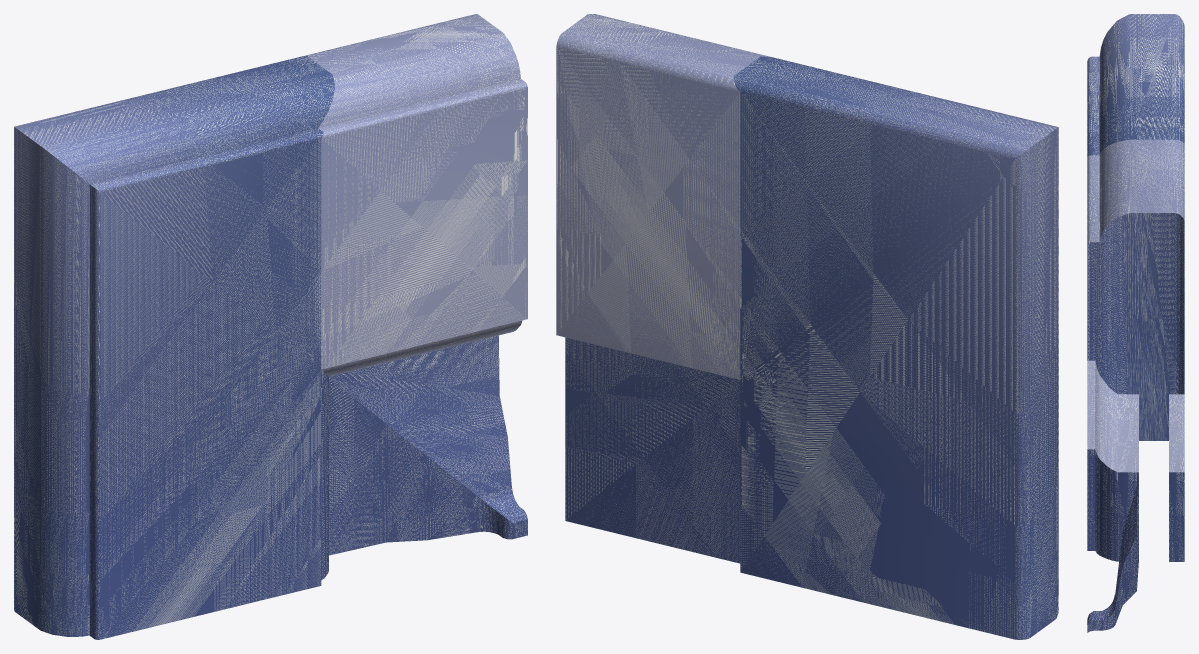
The model's file is original-20.obj.
The picture shows the model from 3 angles, left to right: view 1: azimuth 30°, elevation 25°; view 2: azimuth 150°, elevation 25°; view 3: azimuth 270°, elevation 25°; orthographic projection. The views are drawn at different scales.
Visible parts, largest first — view 1: LB_11_TL1/LB_11_TL/mesh12/mesh12-geometry#mesh12-geometry; view 2: LB_11_TL1/LB_11_TL/mesh12/mesh12-geometry#mesh12-geometry; view 3: LB_11_TL1/LB_11_TL/mesh12/mesh12-geometry#mesh12-geometry.
Part boxes in pixels (x1,y1,x2,y2): LB_11_TL1/LB_11_TL/mesh12/mesh12-geometry#mesh12-geometry: (14,14,527,639); LB_11_TL1/LB_11_TL/mesh12/mesh12-geometry#mesh12-geometry: (556,14,1058,639); LB_11_TL1/LB_11_TL/mesh12/mesh12-geometry#mesh12-geometry: (1087,14,1184,632).
Size of the model in its own units: 0.1899 by 0.1899 by 0.0393.
